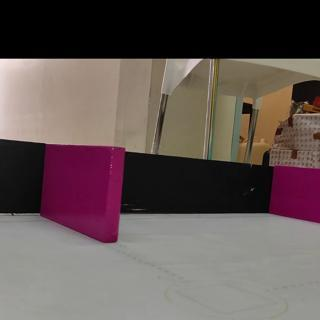xparking: (46, 146, 122, 243), (275, 169, 320, 224)
